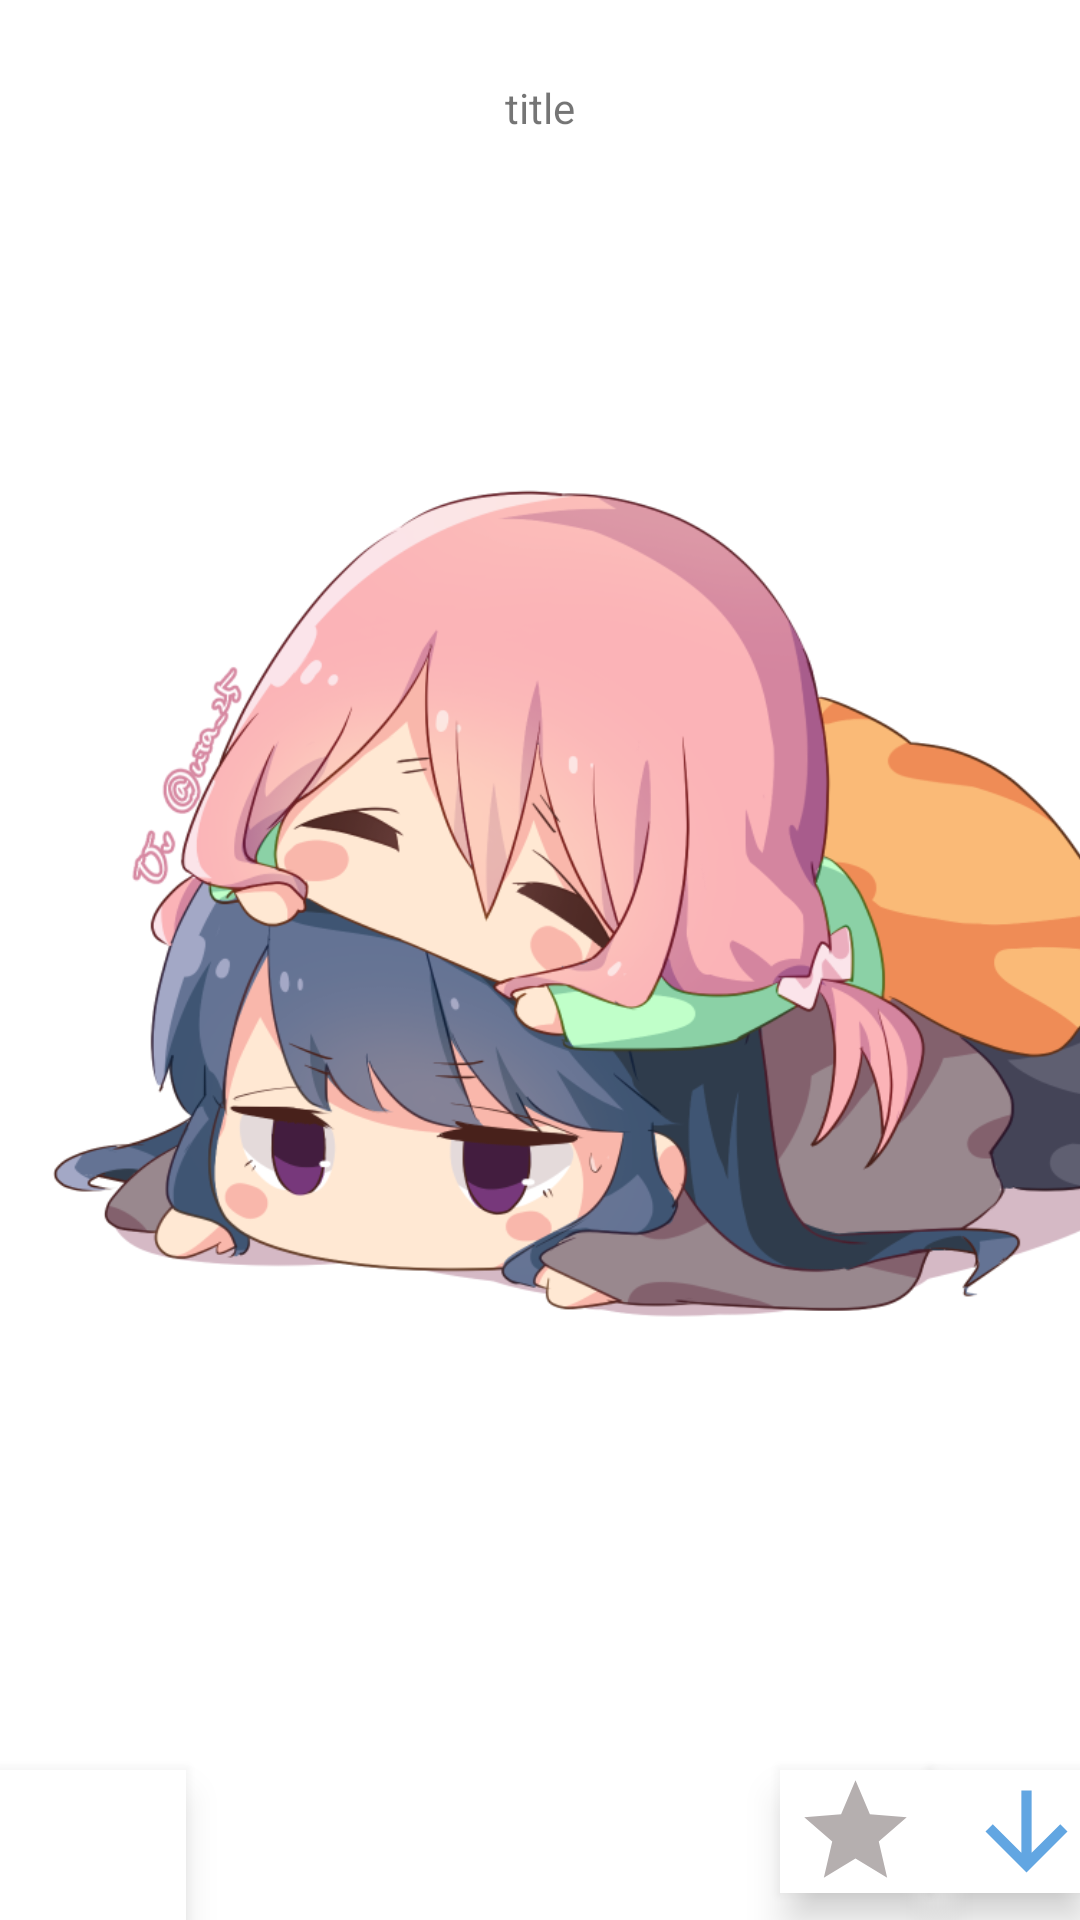

Where to tap for icons on this 1080px×1920px app screen, as (x=x, y=y):
grade: (x=855, y=1829)
